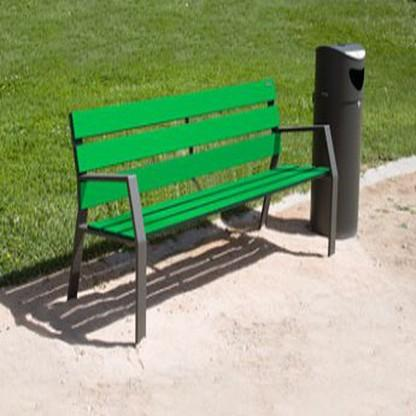obstacle: (46, 62, 331, 333)
